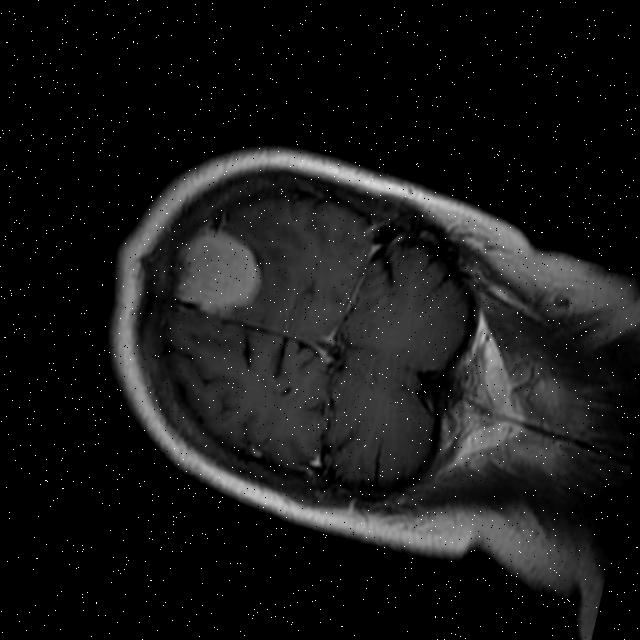Meningioma: (164, 218, 273, 328)
